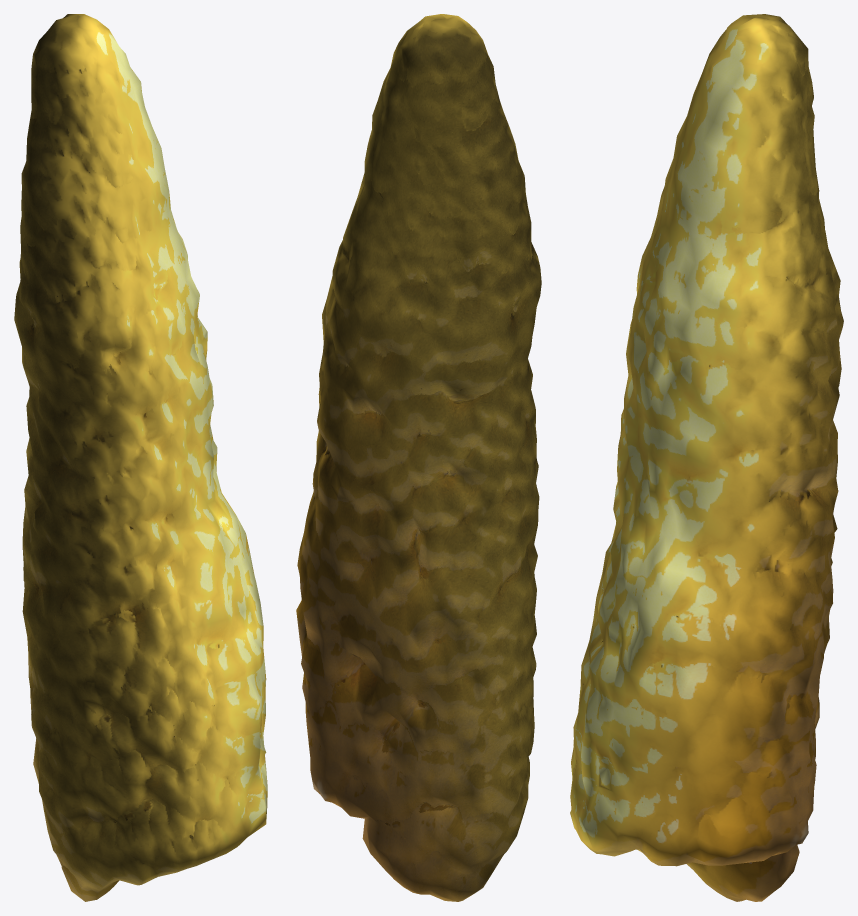
File: babycorn_s1.glb
3 views of the same model, side by side, from view 1: azimuth 30°, elevation 25°; view 2: azimuth 150°, elevation 25°; view 3: azimuth 270°, elevation 25° (orthographic). The views are drawn at different scales.
Parts seen in each view (by area): view 1: babycornS1; view 2: babycornS1; view 3: babycornS1.
Part boxes in pixels (<box>): babycornS1: <box>14,14,267,901</box>; babycornS1: <box>296,14,541,901</box>; babycornS1: <box>570,14,843,901</box>.
Bounding box in the file's own units: 0.7929 × 3.16 × 0.8912.
1 material, 1 textured.
